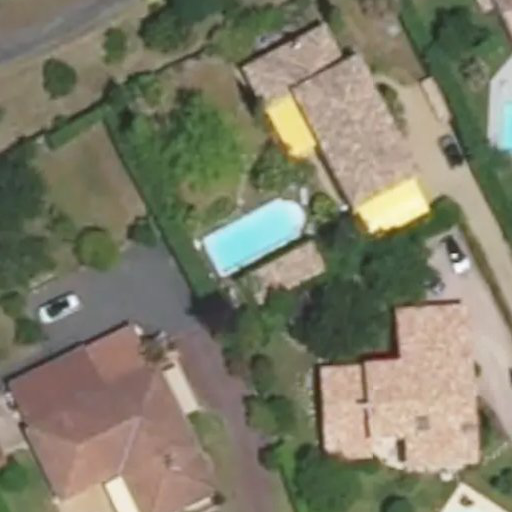pool: (207, 199, 304, 277)
